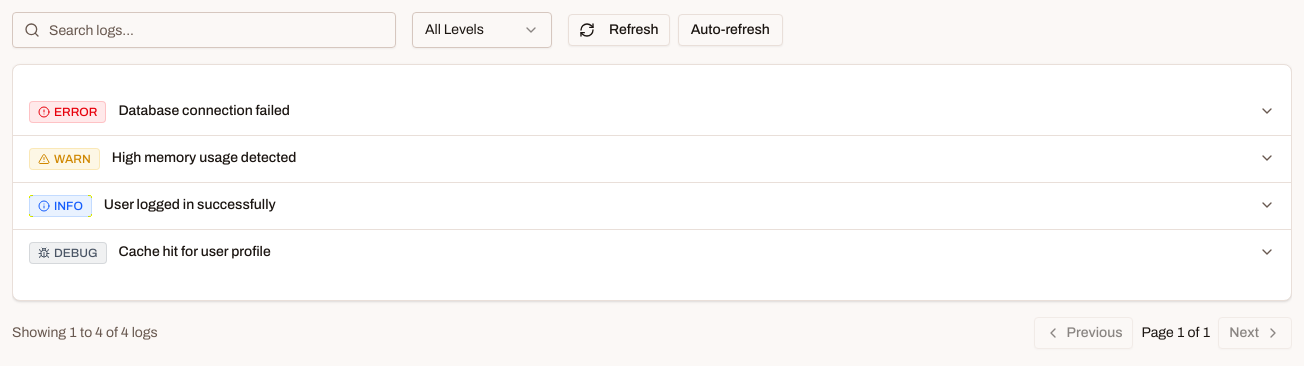
Test: components/admin/logs-viewer › loading states › should disable controls while loading
Trigger fetch (search)
Type "test" into the field with placeholder "Search logs..." at point(204, 30), box [12,12,396,48]
Wait 300 ms
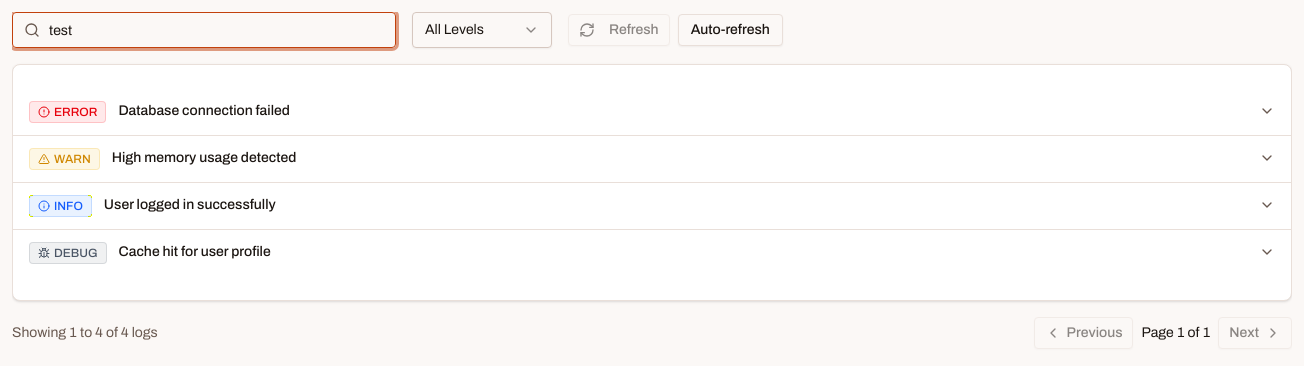
Check: the button "Refresh" is disabled, box [568,14,670,46]
